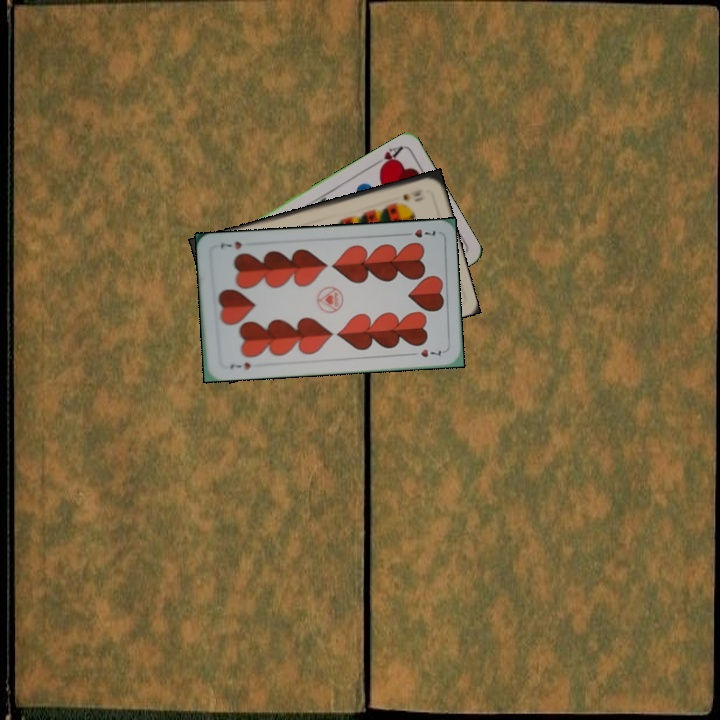H7: (399, 225, 438, 240), (226, 358, 253, 372)
HA: (369, 142, 405, 172)
S10: (399, 185, 425, 203)
